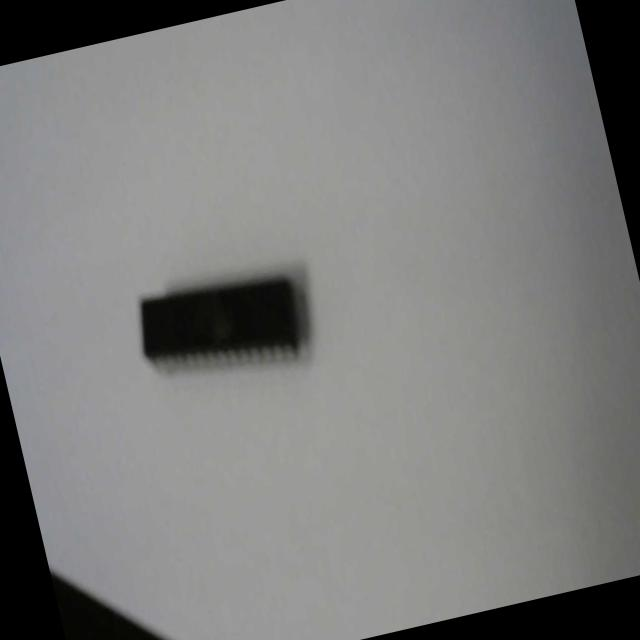atmega: (125, 250, 324, 400)
